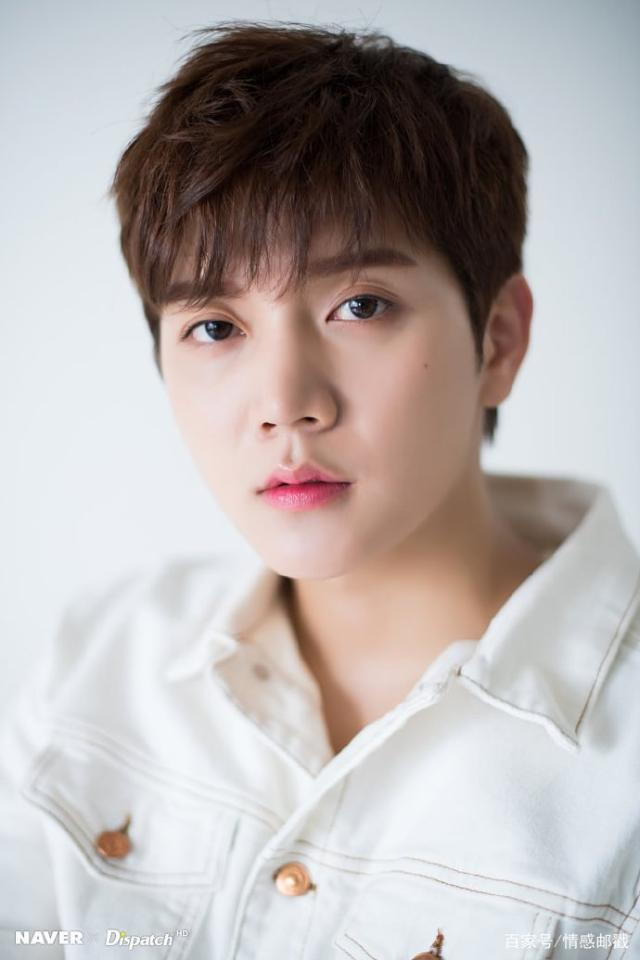person: (59, 54, 557, 914)
